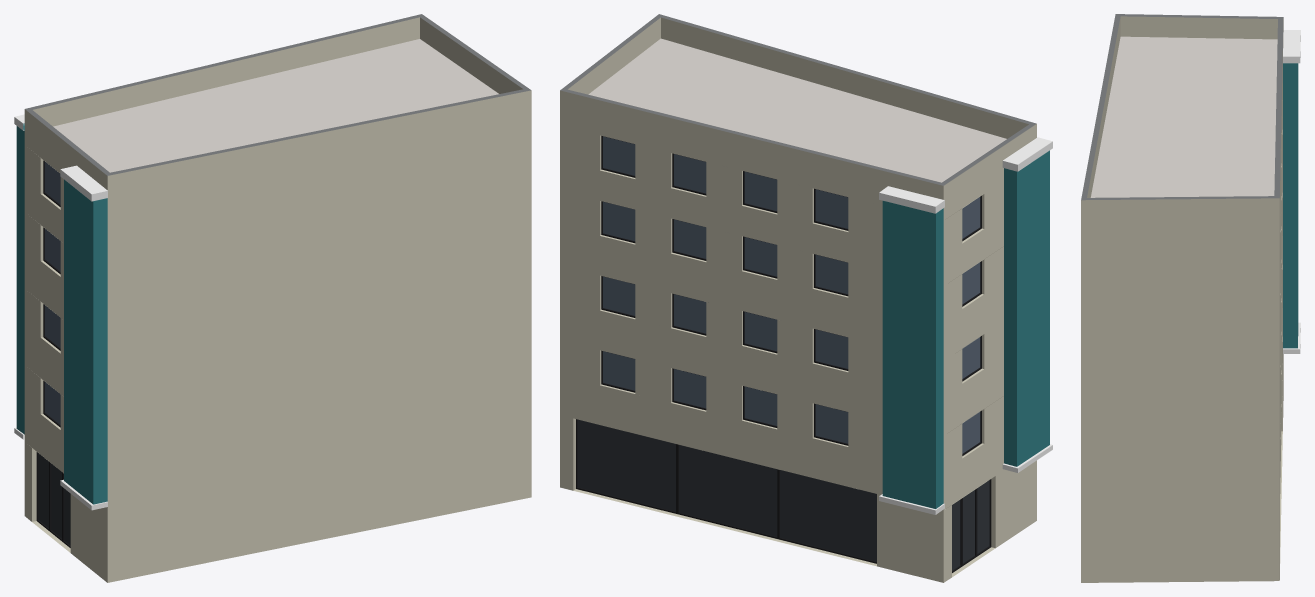
Rendered from thunder525.glb.
The picture shows the model from 3 angles, left to right: view 1: azimuth 30°, elevation 25°; view 2: azimuth 150°, elevation 25°; view 3: azimuth 270°, elevation 25°; orthographic projection. The views are drawn at different scales.
Parts seen in each view (by area): view 1: thunder525; view 2: thunder525; view 3: thunder525.
Boxes of the visible parts, <box> form: thunder525: <box>14,14,531,582</box>; thunder525: <box>560,14,1052,582</box>; thunder525: <box>1081,14,1300,582</box>.
Size of the model in its own units: 18.44 by 17 by 8.85.
